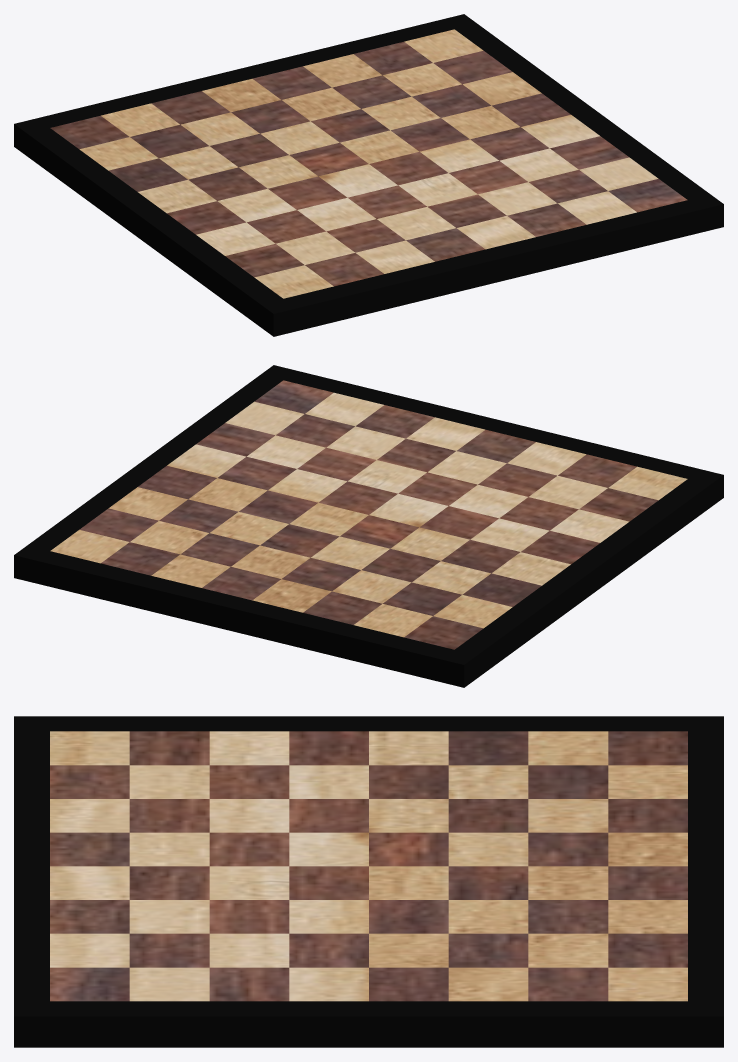
File: Tablero.fbx
The picture shows the model from 3 angles, top to bottom: view 1: azimuth 30°, elevation 25°; view 2: azimuth 150°, elevation 25°; view 3: azimuth 270°, elevation 25°; orthographic projection. The views are drawn at different scales.
Visible parts, largest first — view 1: Cubo; view 2: Cubo; view 3: Cubo.
Boxes of the visible parts, bbox=[...] form: Cubo: bbox=[14, 14, 723, 336]; Cubo: bbox=[14, 365, 723, 687]; Cubo: bbox=[14, 716, 723, 1047].
Bounding box in the file's own units: 998 × 48.47 × 997.
